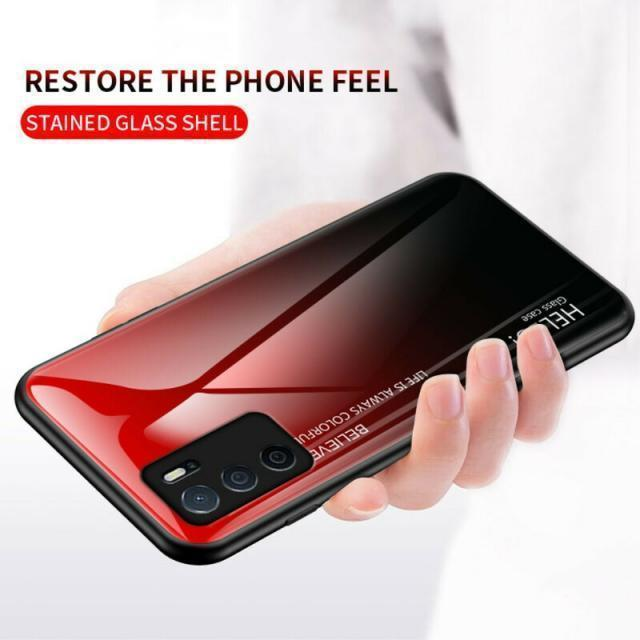lens: (138, 409, 317, 528)
phone: (15, 168, 635, 567)
